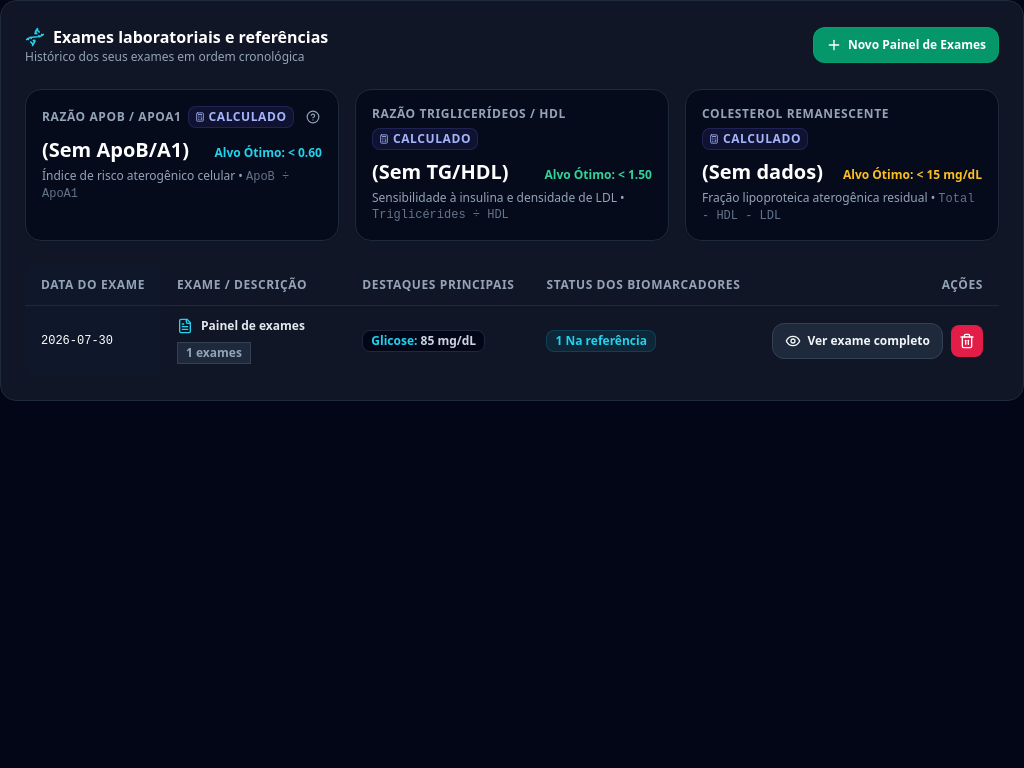
Test: LabResultsTable › opens accessible ConfirmDialog when deleting a lab date group
Click the button titled "excluir este exame" at [967, 341], box top-left (951, 325), bottom-right (983, 357)
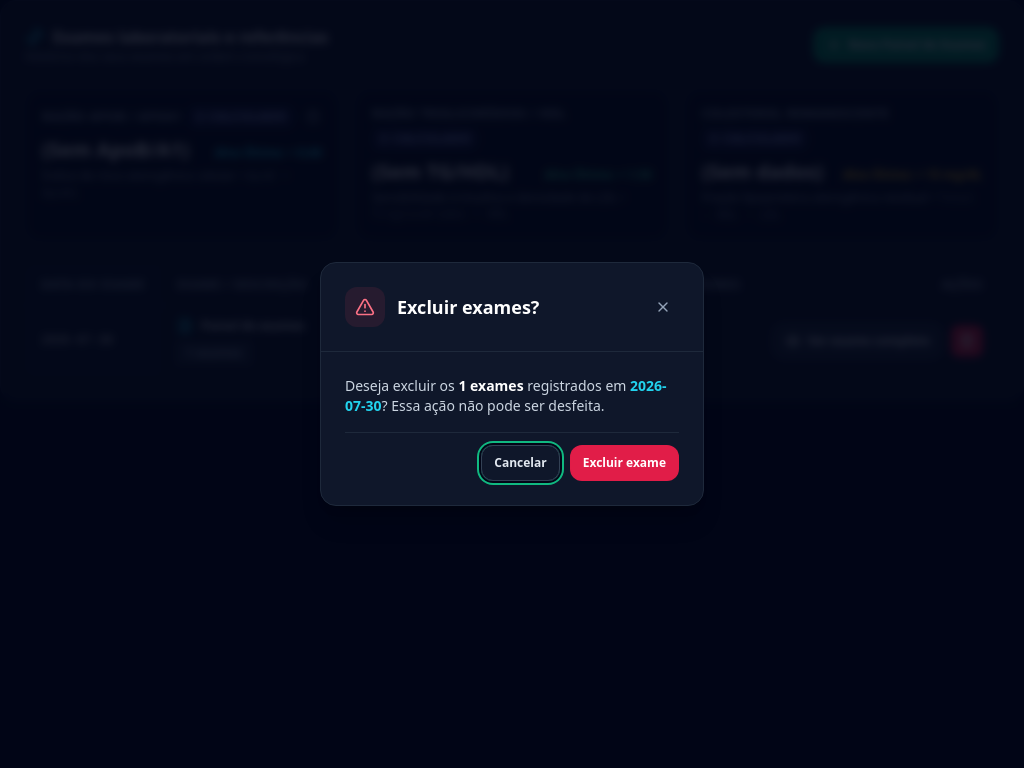
Check: the dialog is shown, box top-left (320, 262), bottom-right (704, 506)
Check: the heading "Excluir exames?" is shown, box top-left (397, 293), bottom-right (539, 321)
Click the button "Cancelar" at [520, 463], box top-left (481, 445), bottom-right (560, 481)
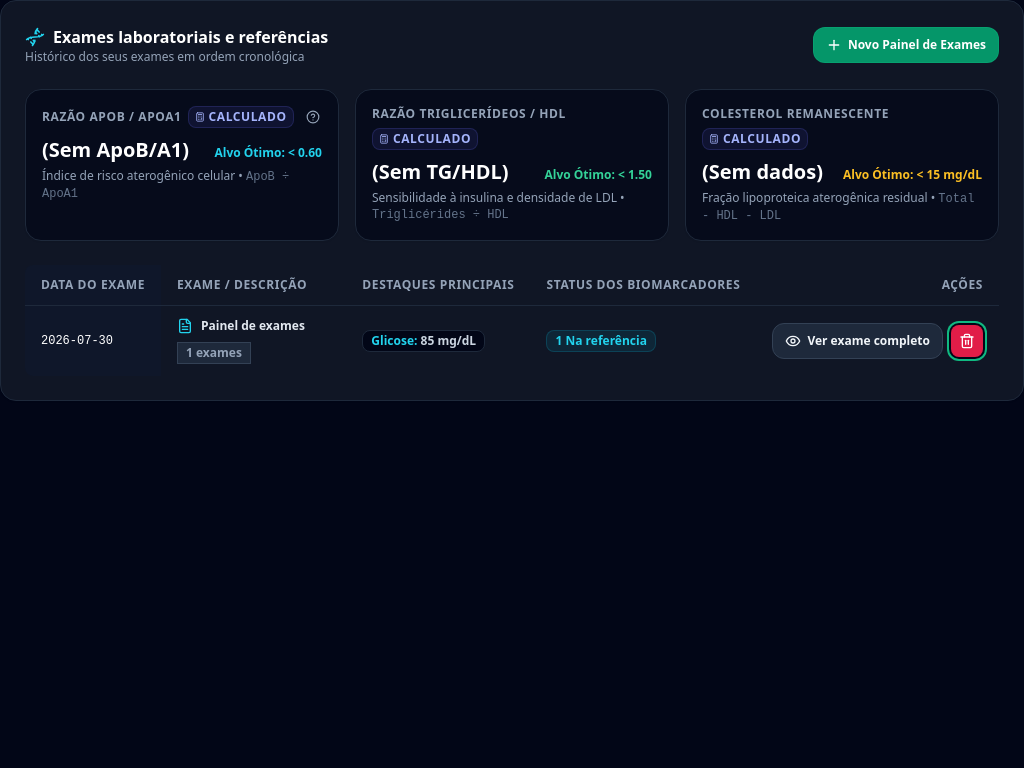
Check: the dialog is gone
